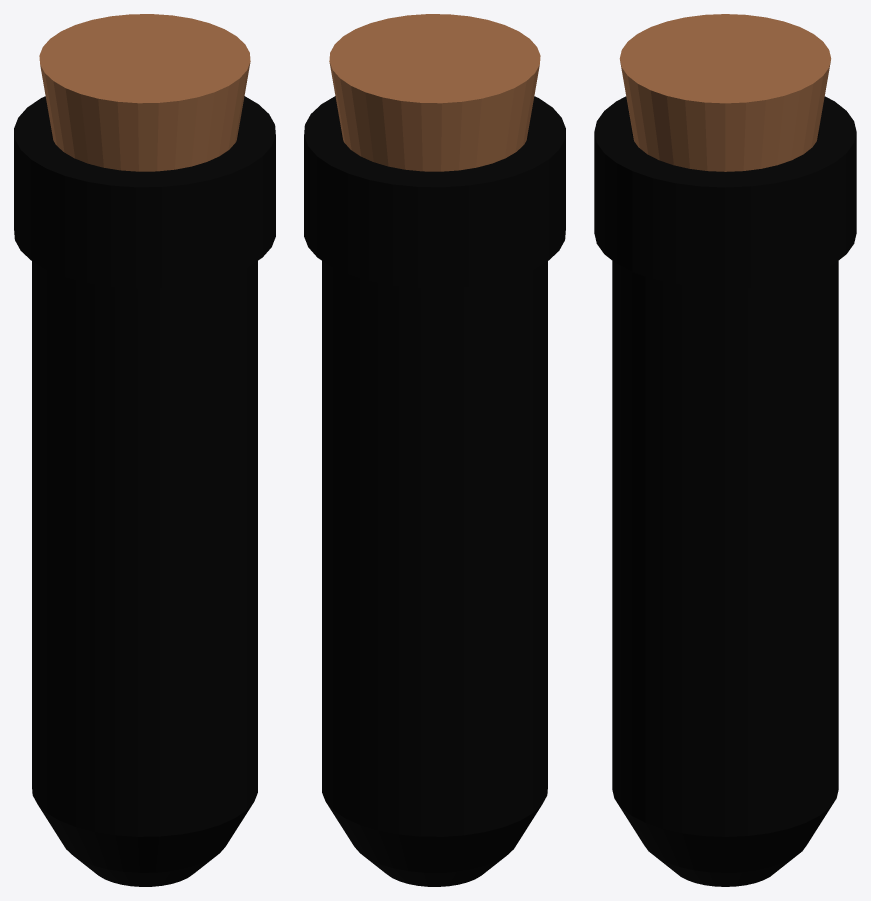
The model's file is Antidotofbx.fbx.
The picture shows the model from 3 angles, left to right: view 1: azimuth 30°, elevation 25°; view 2: azimuth 150°, elevation 25°; view 3: azimuth 270°, elevation 25°; orthographic projection.
Parts seen in each view (by area): view 1: Cristal.001, Corcho.001; view 2: Cristal.001, Corcho.001; view 3: Cristal.001, Corcho.001.
Part boxes in pixels (x1,y1,x2,y2): Cristal.001: (14, 96, 275, 886); Corcho.001: (39, 14, 250, 171); Cristal.001: (304, 96, 565, 886); Corcho.001: (329, 14, 540, 171); Cristal.001: (594, 96, 856, 886); Corcho.001: (619, 14, 831, 171).
Bounding box in the file's own units: 70.55 × 239 × 70.55.
